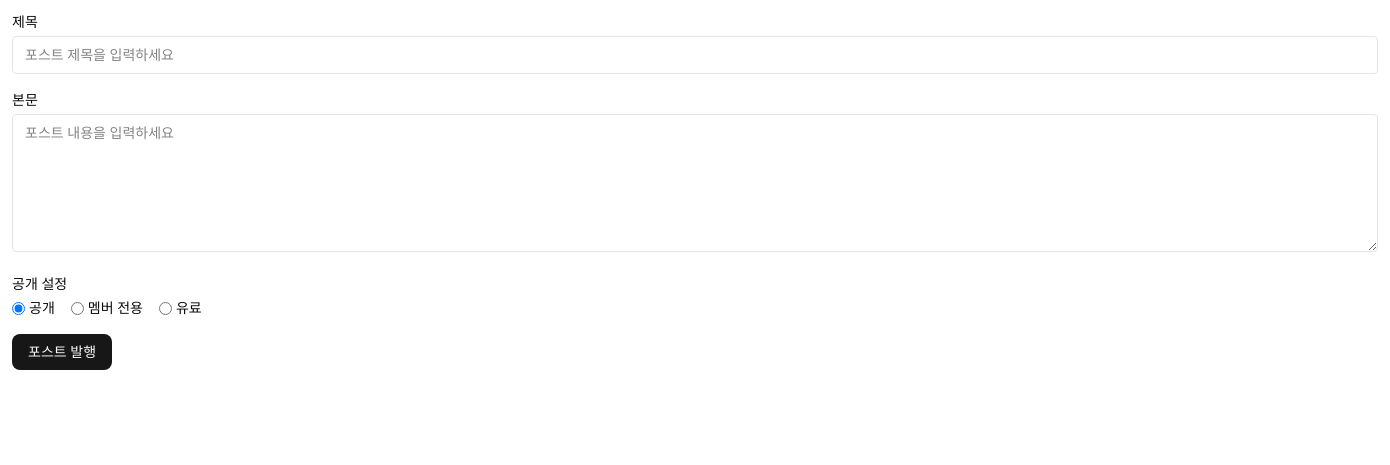
it: PostCreateForm (FR-012, FR-013) › PUBLIC 선택 시 priceKrw 입력 필드가 없다
Click the radio button showing "PAID" at [165, 308], box [159,302,172,314]
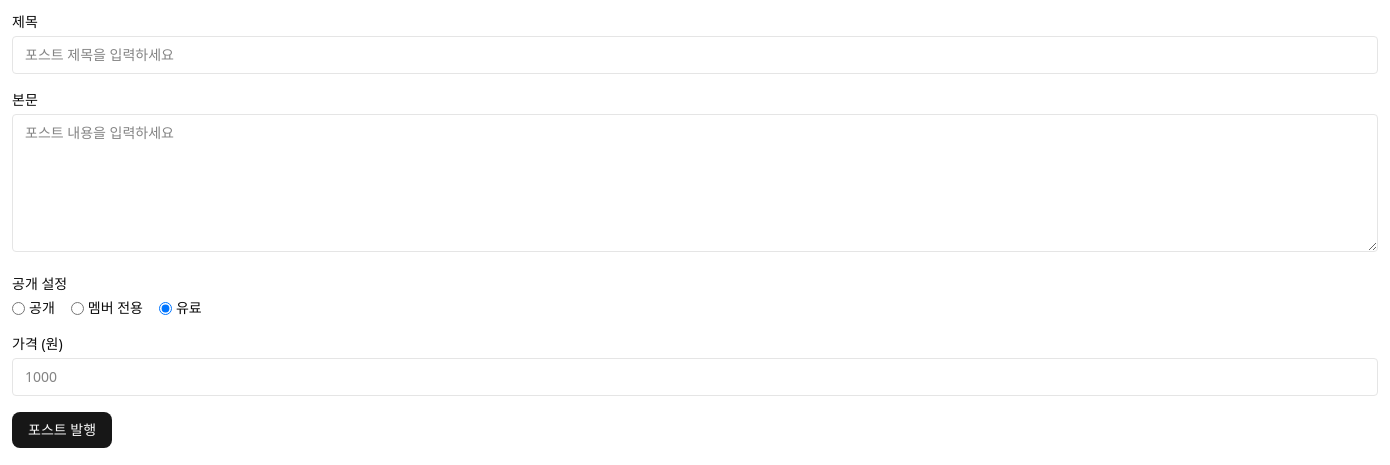
Click the radio button showing "PUBLIC" at [18, 308], box [12,302,25,314]
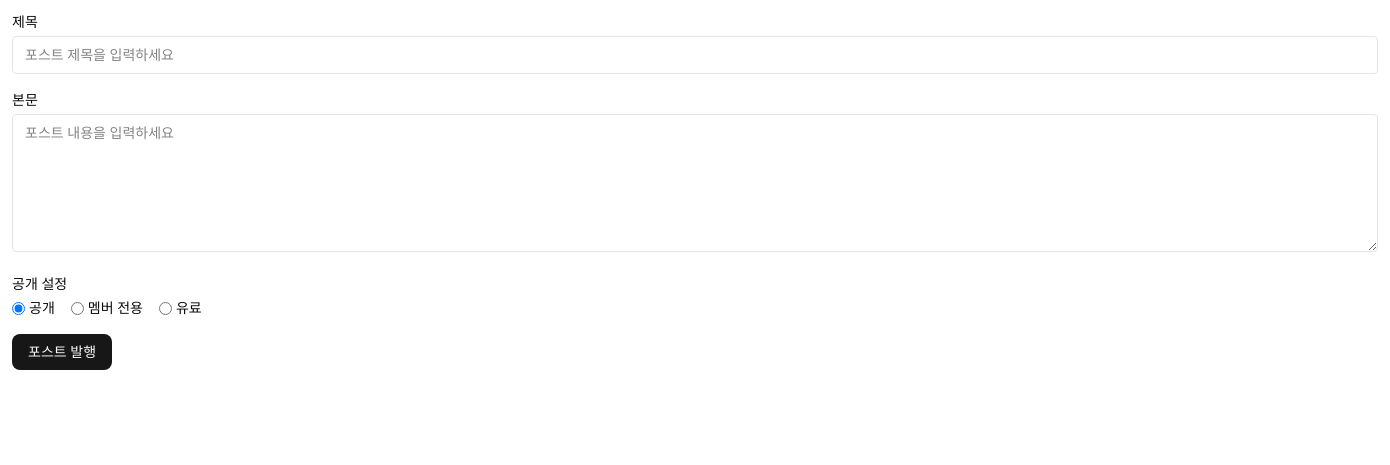
Expected: the label labelled "가격 (원)" is gone
